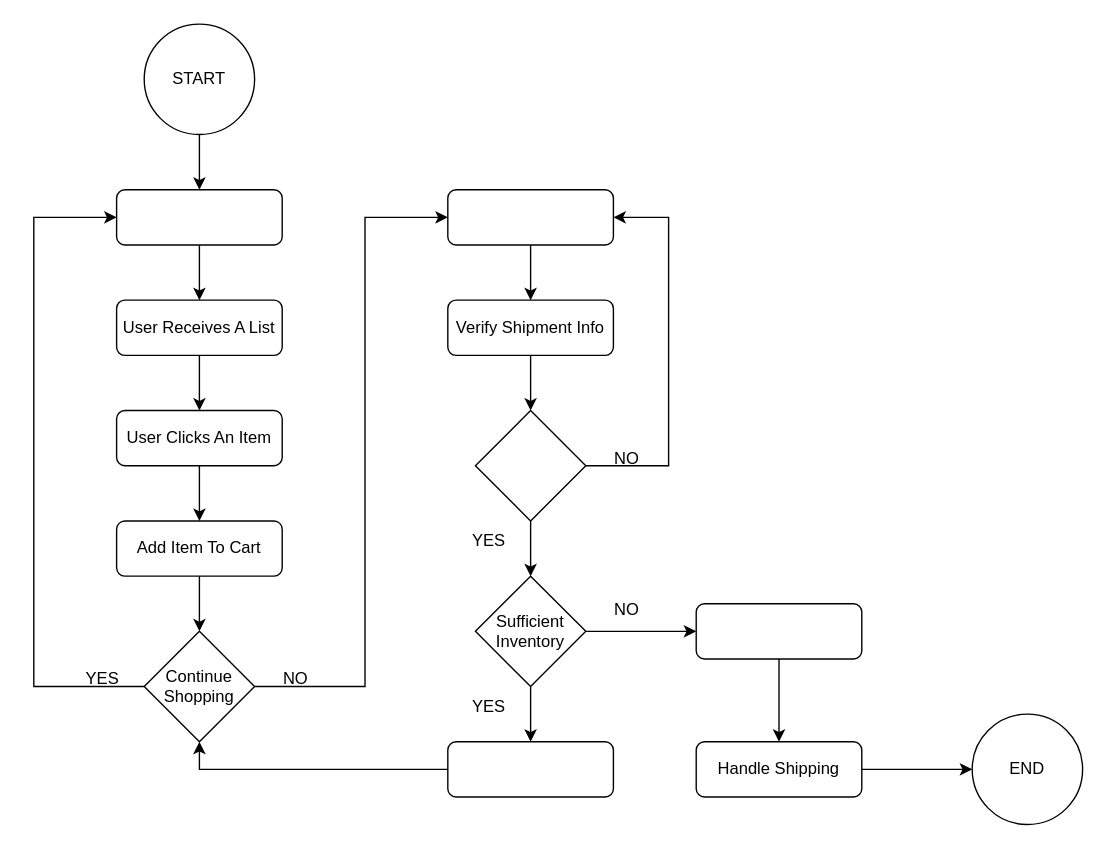
Image size: 1107x849. Some labels were removed from this diagram. Each missing label, with the centre of its shape:
"Deduct From Inventory" belongs at point (529, 768).
"Message User" belongs at point (778, 630).
"Payment Accepted" belongs at point (530, 465).
"User Searches For An Item" belongs at point (198, 216).
"Verify Payment Info" belongs at point (529, 216).
